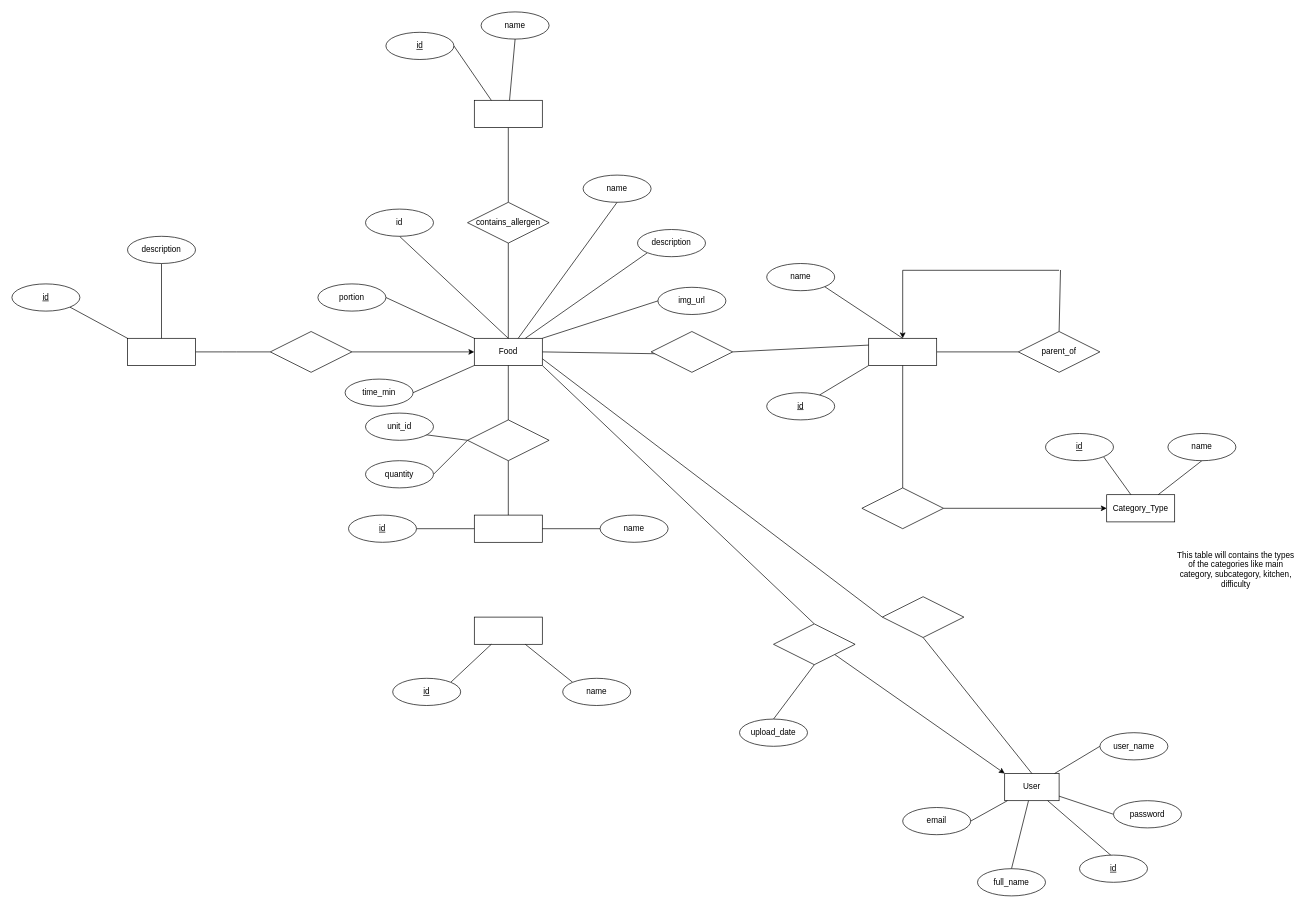
Some shapes in this 1309 by 908 pixel diagram are drawn without their labels. The shapes that lost their labels are listed below. From the top down, each one's centre as x and y in pixels, then its label:
At (508,114): "Allergen".
At (161,352): "Step".
At (311,351): "step_of".
At (691,351): "contains_category".
At (902,352): "Category".
At (508,440): "contains_ingredient".
At (508,528): "Ingredient".
At (902,508): "type_of".
At (508,630): "Unit".
At (923,617): "Heart".
At (814,644): "Upload".
